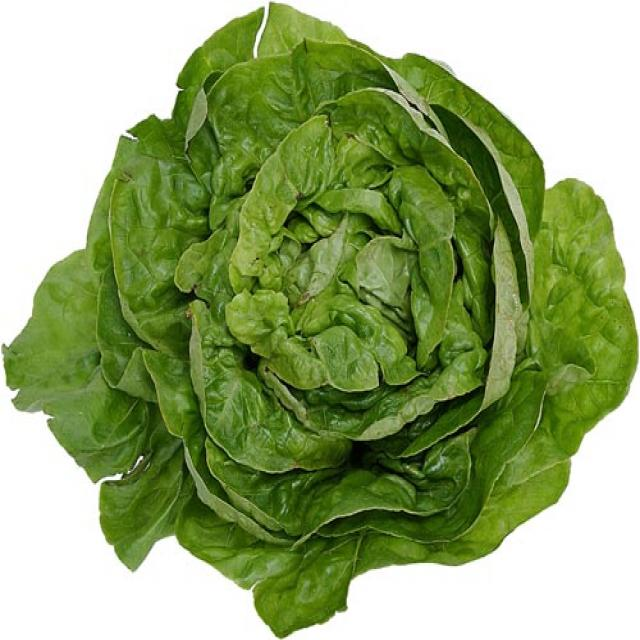lettuce: (9, 1, 634, 592)
